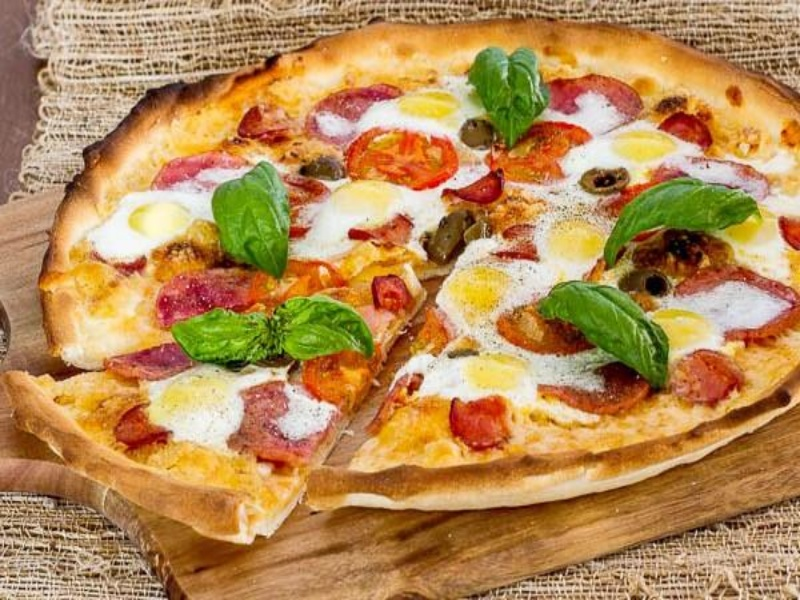oeuf: (436, 264, 525, 331), (154, 371, 241, 432), (318, 175, 413, 228), (597, 122, 691, 170), (120, 196, 203, 247), (389, 84, 473, 134), (539, 215, 606, 269), (460, 352, 539, 394), (657, 309, 732, 352)
